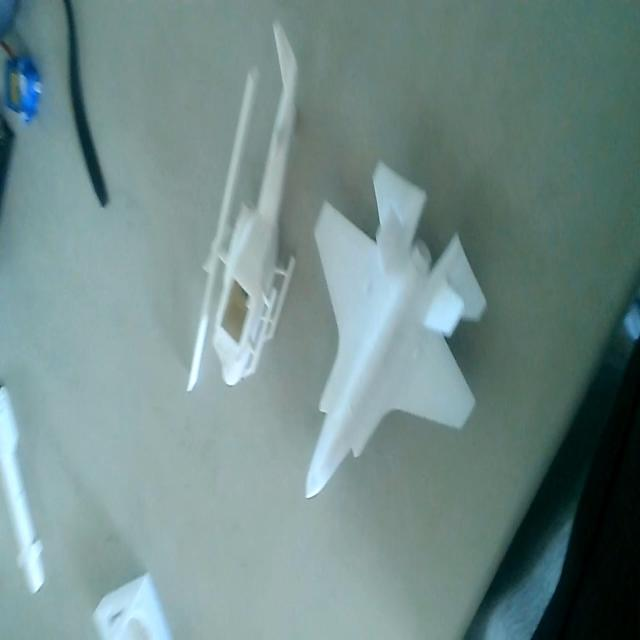Helicopter: (188, 22, 302, 403)
Jet: (306, 162, 487, 500)
